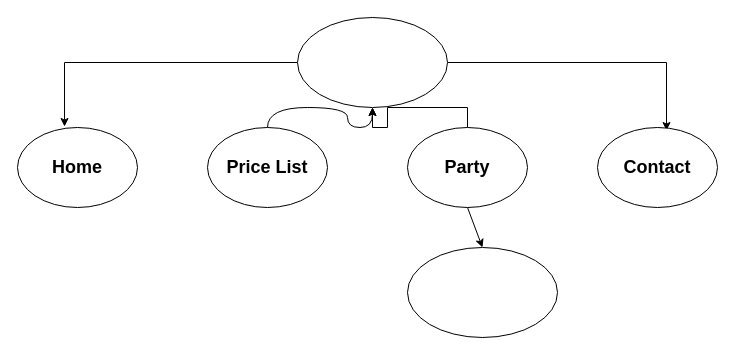
The diagram is 735 pixels wide and 355 high, and some of its shapes have lost their labels. The shapes that lost their labels are listed below. From the top down, each one's centre as x and y in pixels, then its label:
(x=372, y=62): CossiePlay Website
(x=482, y=292): Exciting Announcement
